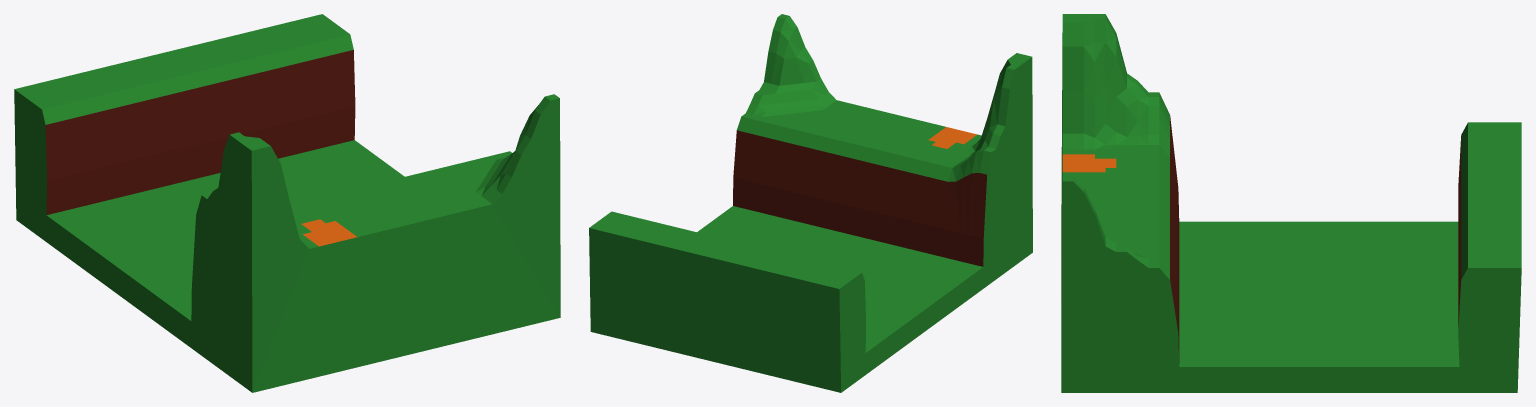
Rendered from Level 1 - Area 2.fbx.
3 renders of one model, left to right at view 1: azimuth 30°, elevation 25°; view 2: azimuth 150°, elevation 25°; view 3: azimuth 270°, elevation 25°, orthographic. The views are drawn at different scales.
Parts seen in each view (by area): view 1: Level1 - Area 2 Triangulated; view 2: Level1 - Area 2 Triangulated; view 3: Level1 - Area 2 Triangulated.
Boxes of the visible parts, <box> form: Level1 - Area 2 Triangulated: <box>14,14,560,392</box>; Level1 - Area 2 Triangulated: <box>589,14,1032,392</box>; Level1 - Area 2 Triangulated: <box>1061,14,1521,392</box>.
Size of the model in its own units: 5000 by 3745 by 6691.
